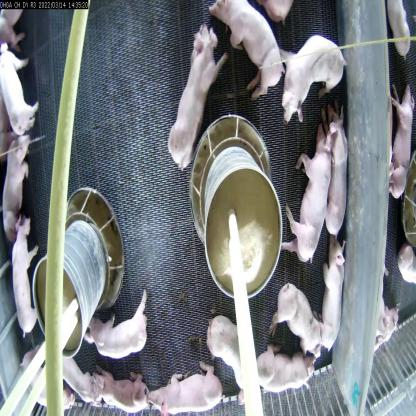Pig: (171, 23, 226, 168), (208, 0, 283, 98), (283, 122, 332, 268), (278, 37, 347, 115), (80, 291, 155, 357), (6, 209, 43, 338), (269, 281, 328, 361), (200, 312, 258, 392), (0, 32, 34, 148), (324, 113, 354, 236), (315, 249, 348, 360), (93, 362, 158, 415), (383, 73, 412, 188), (3, 128, 34, 235), (153, 368, 222, 415), (254, 345, 315, 395)
